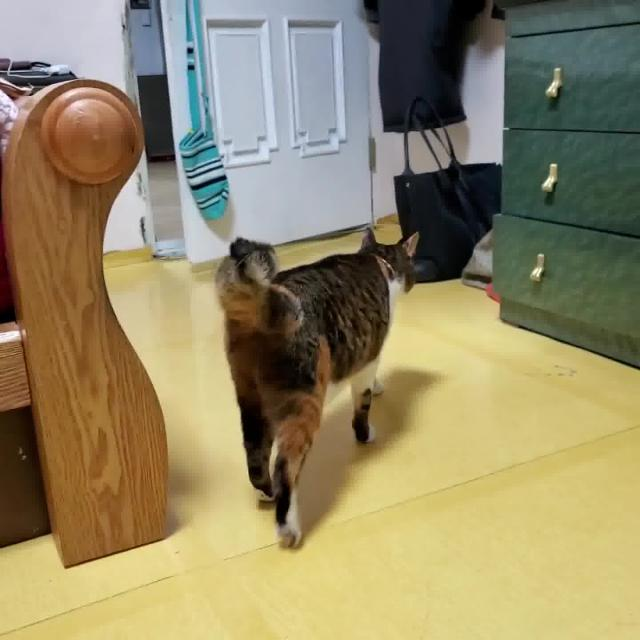cat: (208, 219, 430, 558)
